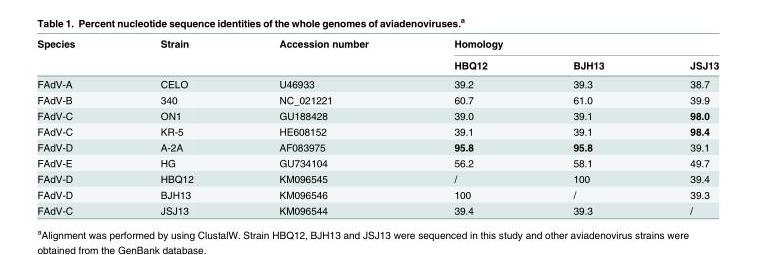table: (36, 37, 718, 215)
table column: (235, 37, 410, 215), (410, 37, 529, 215), (117, 37, 235, 215), (529, 37, 646, 215), (36, 37, 117, 215), (646, 37, 718, 215)
table column header: (36, 37, 718, 74)
table row: (36, 53, 718, 74), (36, 74, 718, 91), (36, 37, 718, 53), (36, 91, 718, 107), (36, 107, 718, 123), (36, 138, 718, 154), (36, 154, 718, 170), (36, 170, 718, 186), (36, 186, 718, 202), (36, 123, 718, 138), (36, 202, 718, 215)
table spanning cell: (235, 37, 410, 74), (410, 37, 718, 53), (117, 37, 235, 74), (36, 37, 117, 74)
